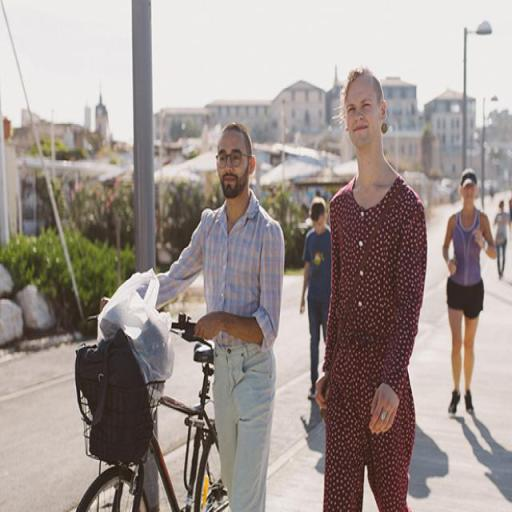person: (154, 124, 283, 510), (326, 66, 434, 512), (443, 166, 500, 421), (300, 196, 334, 401), (493, 199, 512, 285)
